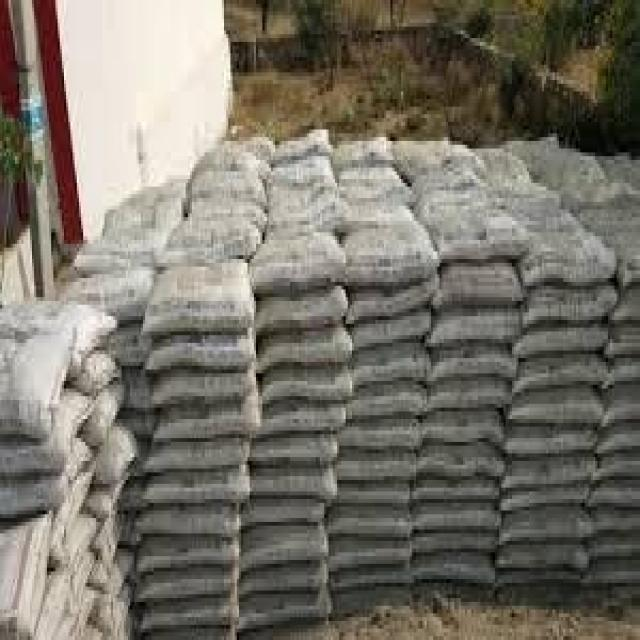gunny_bag: (143, 261, 255, 343), (2, 289, 115, 369), (0, 332, 76, 440), (5, 384, 90, 474), (0, 442, 94, 518), (432, 201, 528, 268), (2, 516, 54, 634), (153, 391, 264, 445), (341, 218, 436, 277), (157, 203, 268, 253), (523, 281, 615, 332), (254, 227, 344, 279), (497, 504, 595, 551), (432, 306, 521, 357), (243, 521, 330, 573), (257, 287, 349, 336), (148, 336, 257, 377), (260, 329, 351, 377), (435, 260, 526, 308), (351, 275, 436, 326), (511, 383, 607, 424), (155, 371, 253, 410), (269, 185, 342, 237), (357, 339, 431, 390), (146, 471, 248, 507), (144, 440, 249, 474), (139, 568, 232, 606), (423, 402, 509, 443), (347, 383, 428, 426), (137, 540, 235, 575), (254, 431, 335, 473), (424, 442, 505, 483), (517, 326, 609, 362), (71, 265, 158, 303), (520, 353, 608, 390), (501, 452, 593, 487), (265, 371, 349, 409), (253, 466, 337, 504), (428, 376, 515, 412), (329, 539, 411, 577), (357, 310, 431, 352), (333, 504, 406, 545), (144, 509, 240, 540), (191, 168, 261, 210), (342, 166, 415, 205), (62, 509, 97, 590), (416, 500, 501, 532), (96, 423, 139, 485), (417, 556, 496, 589), (78, 343, 120, 402), (508, 428, 592, 455), (342, 450, 415, 481), (271, 152, 330, 188), (350, 421, 417, 452), (415, 164, 477, 196), (603, 383, 640, 431), (598, 504, 638, 539), (595, 454, 636, 488), (612, 322, 640, 360)
